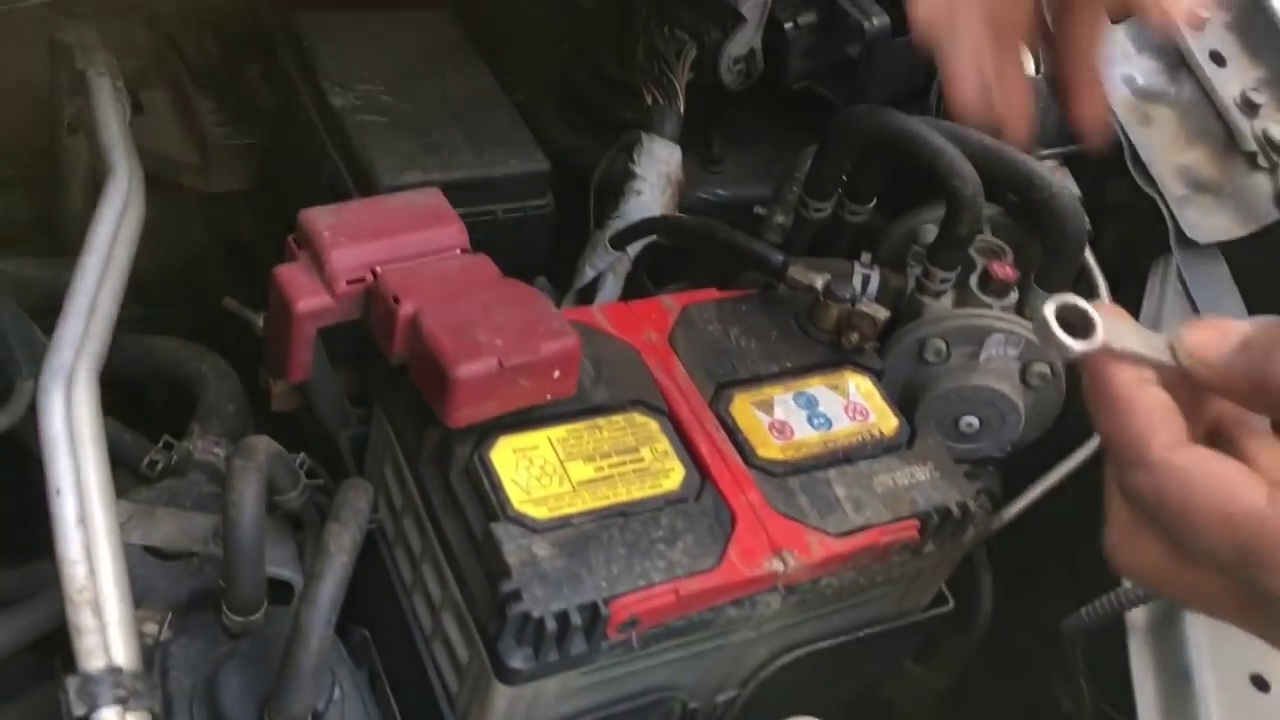battery: (348, 259, 938, 604)
neg_connected: (703, 215, 863, 357)
pos_connected: (289, 210, 583, 447)
